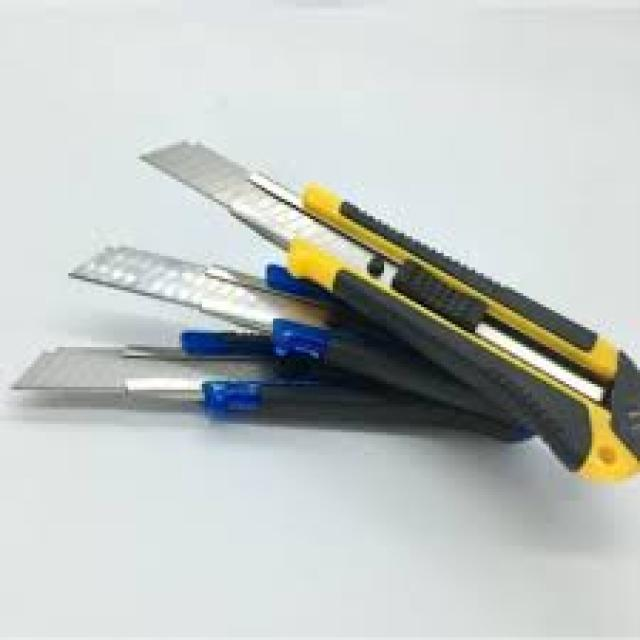cutter: (132, 114, 640, 484), (54, 230, 534, 448), (1, 320, 530, 454)
